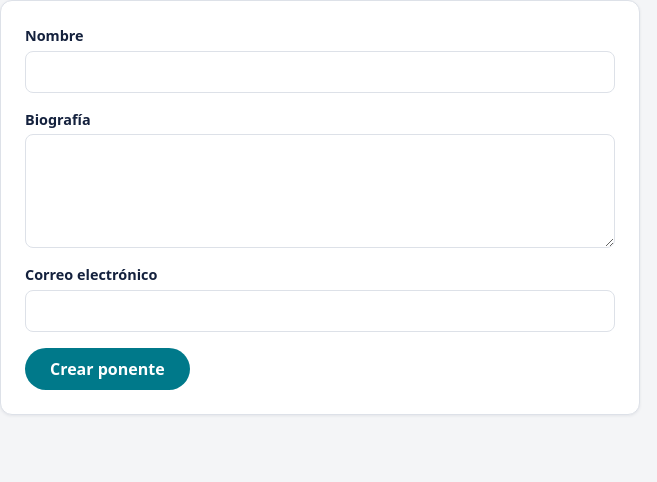
Test: SpeakerForm › shows validation errors and does not submit an invalid form
In the field labelled "Correo electrónico": (320,311) [25,290,615,332], type "no-es-un-correo"
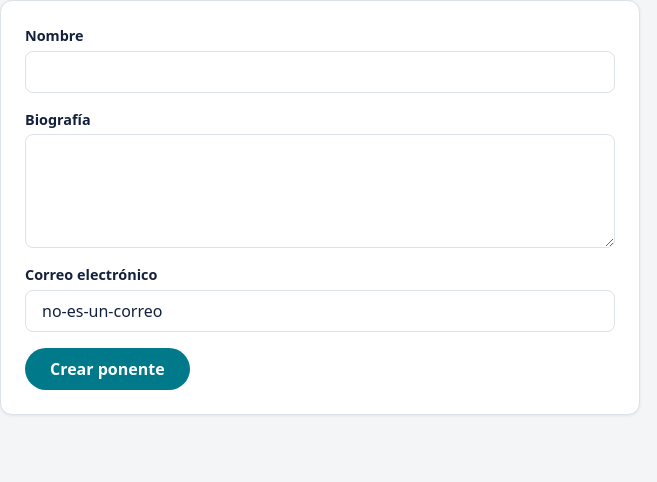
Click the button "Crear ponente": (107,369) [25,348,190,390]
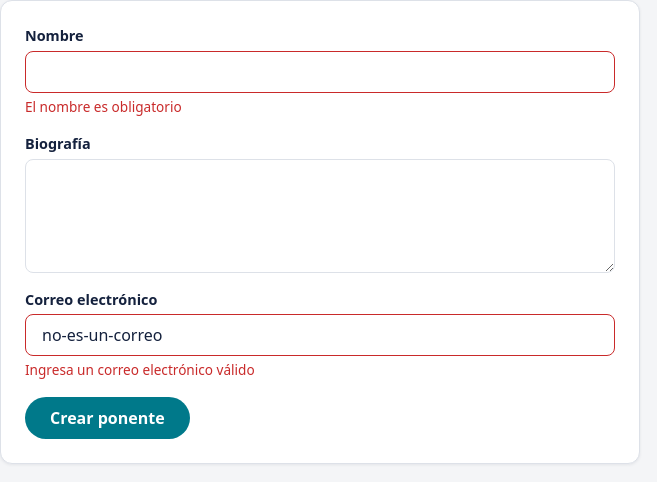
Now the text "El nombre es obligatorio" is shown, box [25,97,182,116]
Now the text "Ingresa un correo electrónico válido" is shown, box [25,360,255,379]
